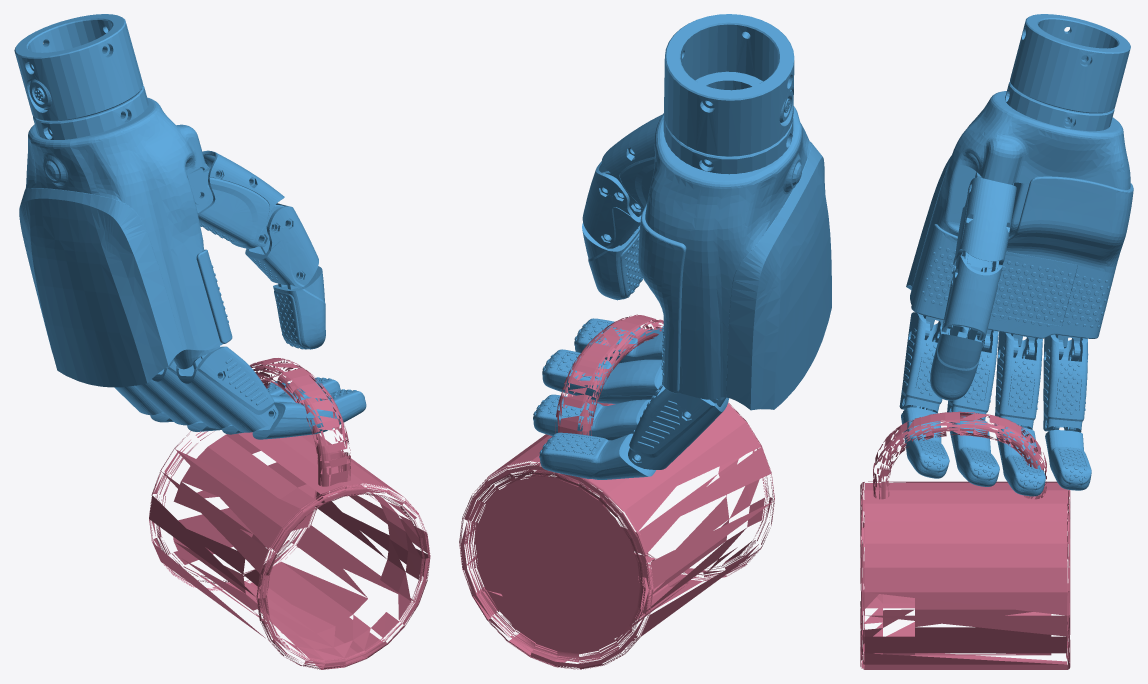
The picture shows the model from 3 angles, left to right: view 1: azimuth 30°, elevation 25°; view 2: azimuth 150°, elevation 25°; view 3: azimuth 270°, elevation 25°; orthographic projection. The views are drawn at different scales.
Visible parts, largest first — view 1: 9; view 2: 9; view 3: 9.
Part boxes in pixels (box(x1,y1,x2,y2)): 9: box(14, 14, 430, 669); 9: box(459, 14, 831, 669); 9: box(860, 14, 1133, 669).
Bounding box in the file's own units: 0.1479 × 0.2878 × 0.1254.
